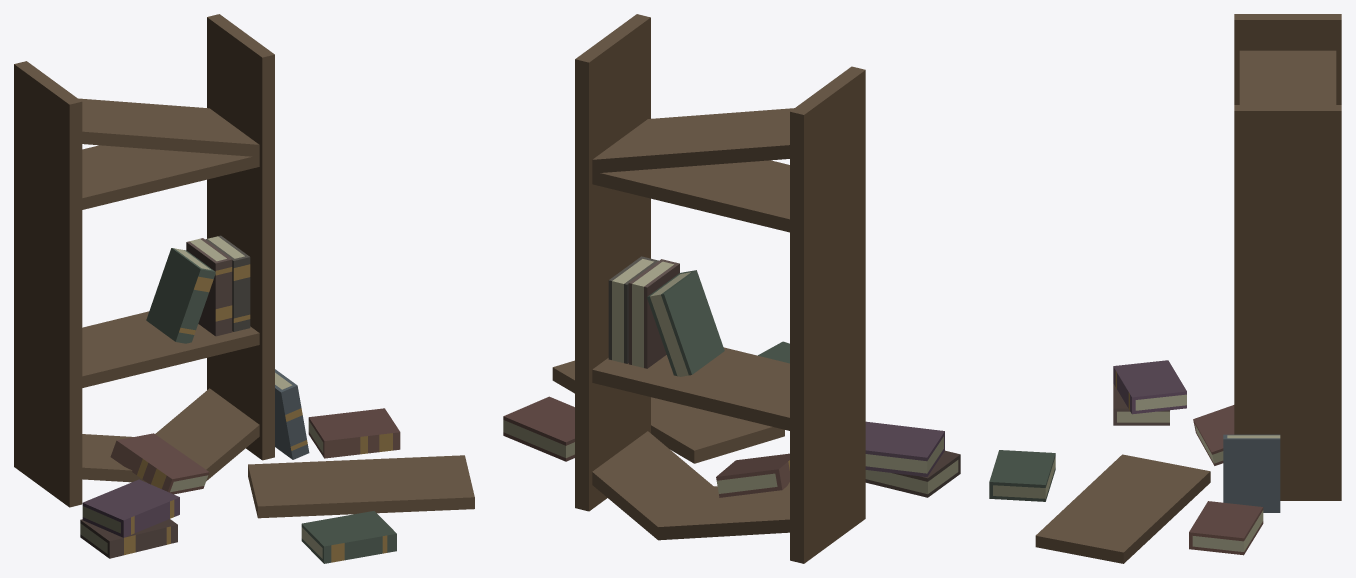
File: SD_Prop_Bookshelf_02.fbx
3 renders of one model, left to right at view 1: azimuth 30°, elevation 25°; view 2: azimuth 150°, elevation 25°; view 3: azimuth 270°, elevation 25°, orthographic. The views are drawn at different scales.
Visible parts, largest first — view 1: SD_Prop_Bookshelf_02; view 2: SD_Prop_Bookshelf_02; view 3: SD_Prop_Bookshelf_02.
Boxes of the visible parts, x1,y1,x2,y2 form: SD_Prop_Bookshelf_02: (14, 14, 474, 563); SD_Prop_Bookshelf_02: (503, 14, 960, 563); SD_Prop_Bookshelf_02: (989, 14, 1341, 563).
Bounding box in the file's own units: 2.9 × 3.2 × 2.54.
